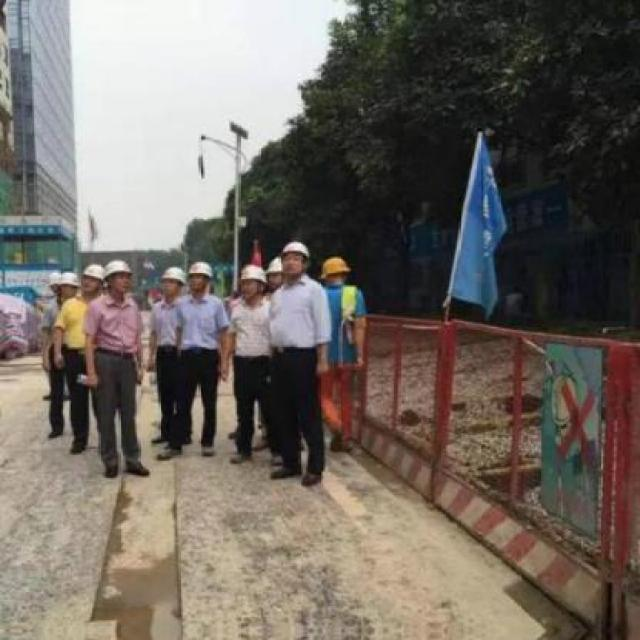helmet: (100, 252, 137, 302), (236, 258, 270, 308), (276, 238, 312, 282), (316, 250, 352, 291), (150, 262, 185, 302), (186, 258, 214, 302), (80, 258, 102, 302), (57, 265, 81, 301)
